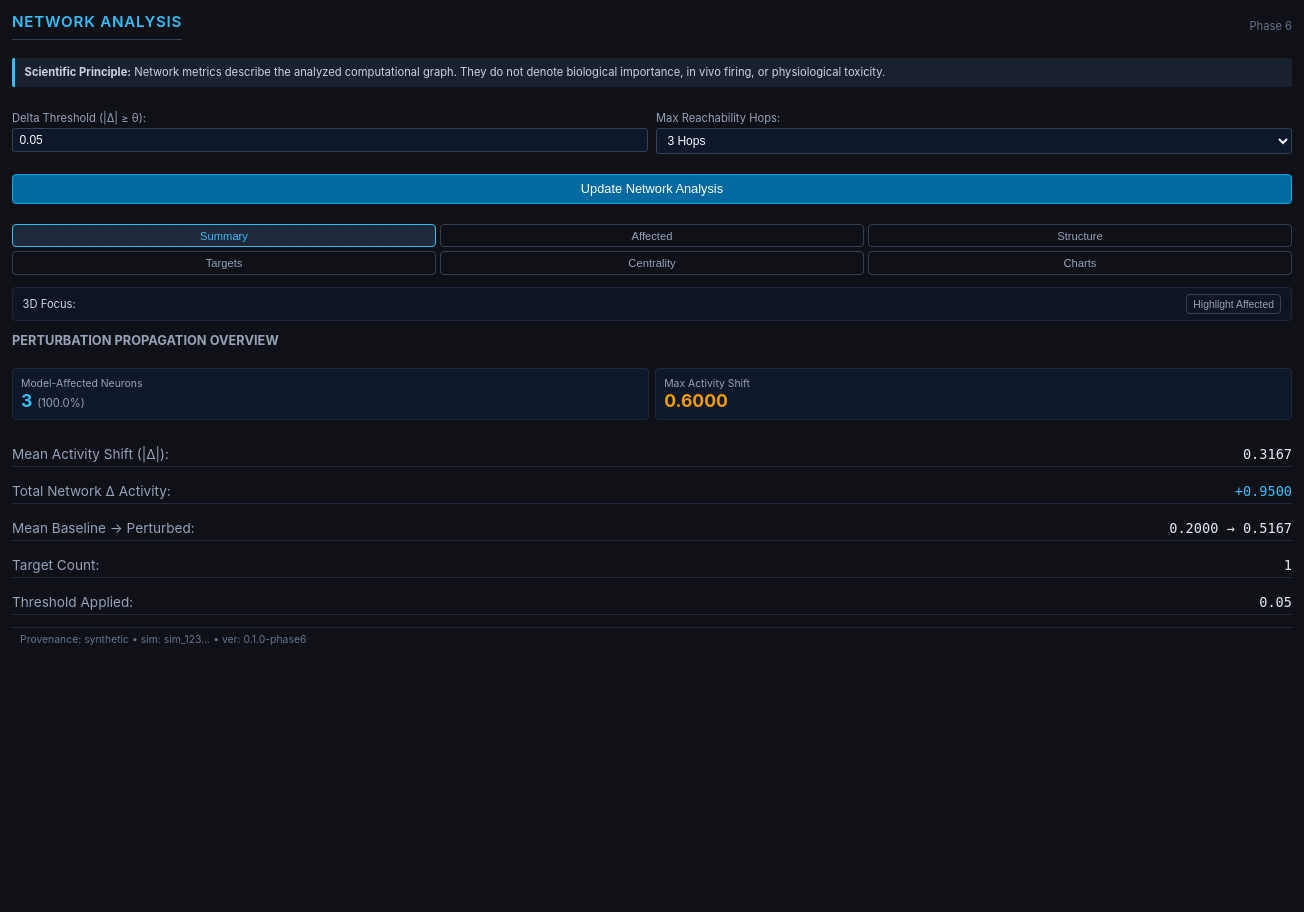
Test: Phase 6 Network Analysis Frontend Integration › 6. Switches to structural graph topology section
Click the button "Structure". click: [1080, 236]
box: [868,224,1292,247]
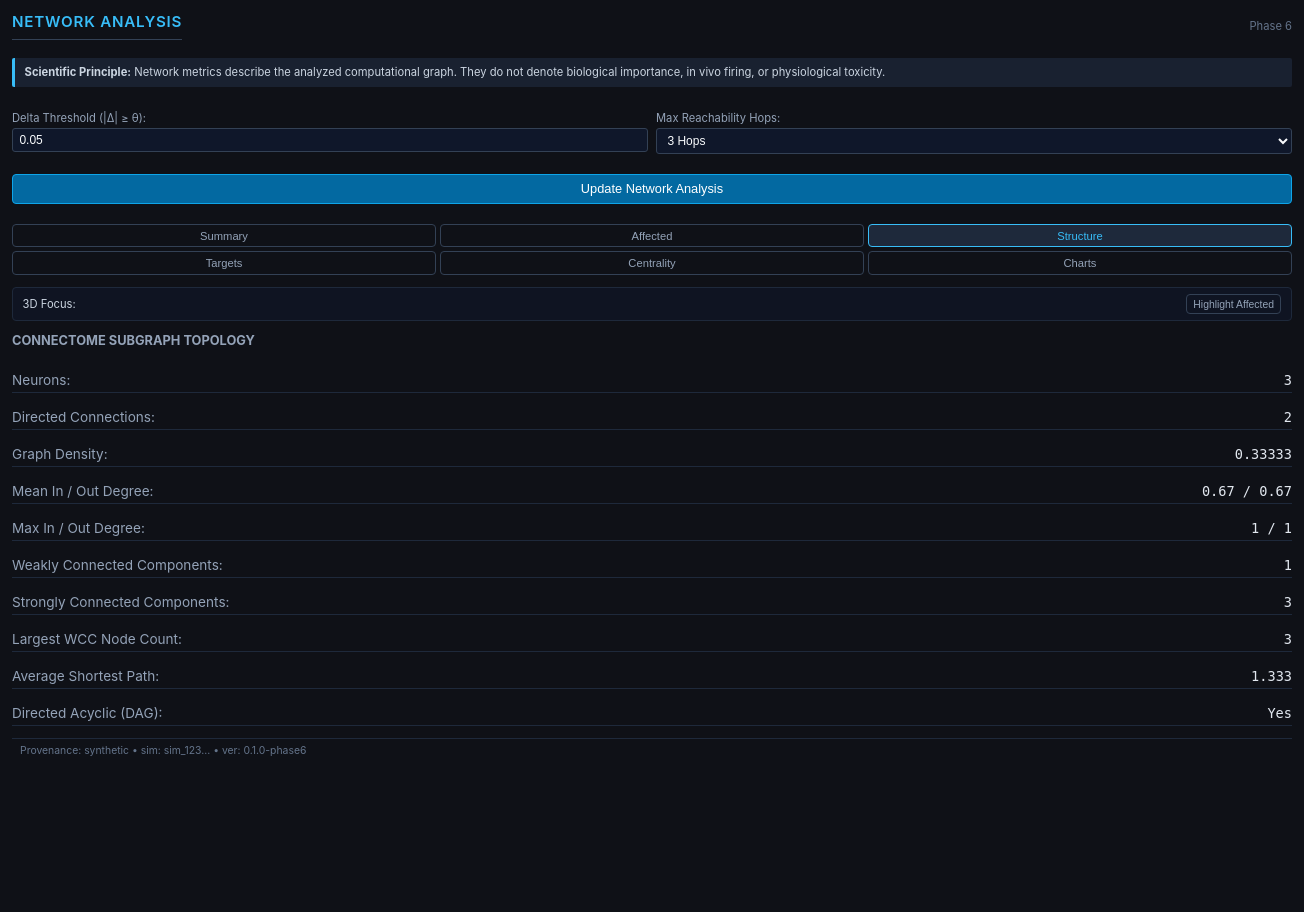
Check: the heading "Connectome Subgraph Topology" is shown, box [12,333,255,348]
Check: the text "Directed Connections:" is shown, box [12,409,155,425]
Check: the text "Weakly Connected Components:" is shown, box [12,557,223,573]
